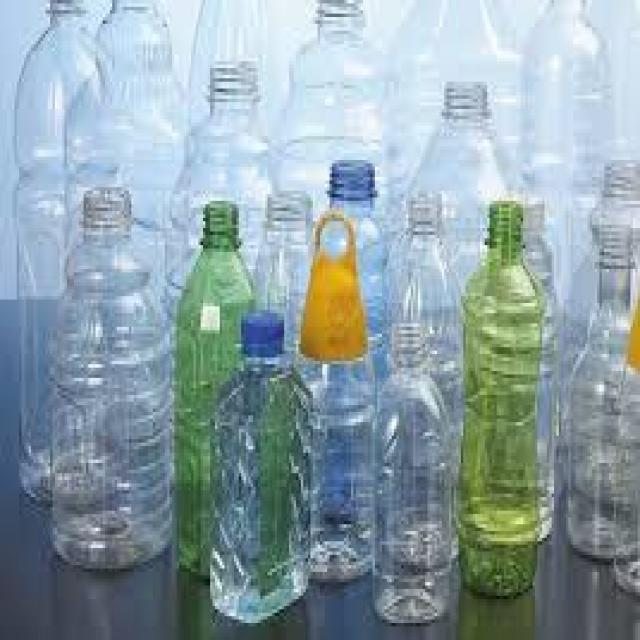Plastic: (14, 0, 111, 497), (55, 183, 172, 566), (212, 308, 314, 624), (464, 200, 544, 598), (174, 198, 252, 572), (300, 214, 378, 580), (560, 228, 640, 556), (372, 319, 452, 620)
